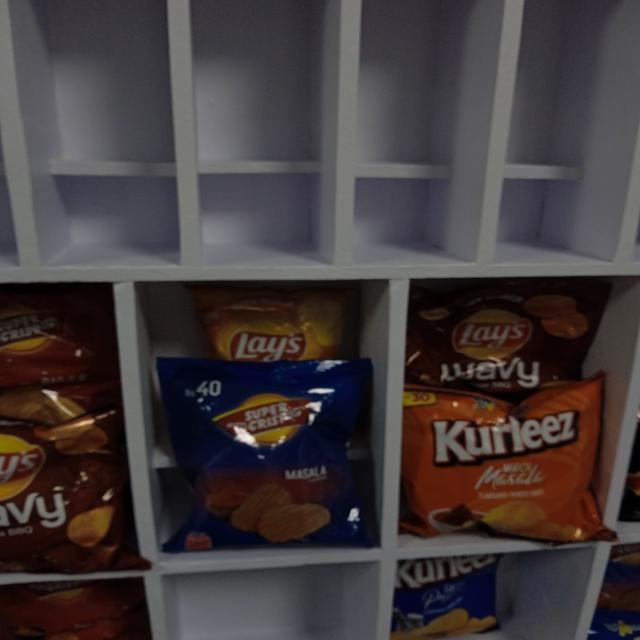Plastic: (164, 369, 373, 549), (408, 388, 605, 536), (2, 420, 140, 572), (408, 286, 593, 382), (2, 283, 107, 417), (205, 288, 343, 363), (392, 558, 504, 637)
